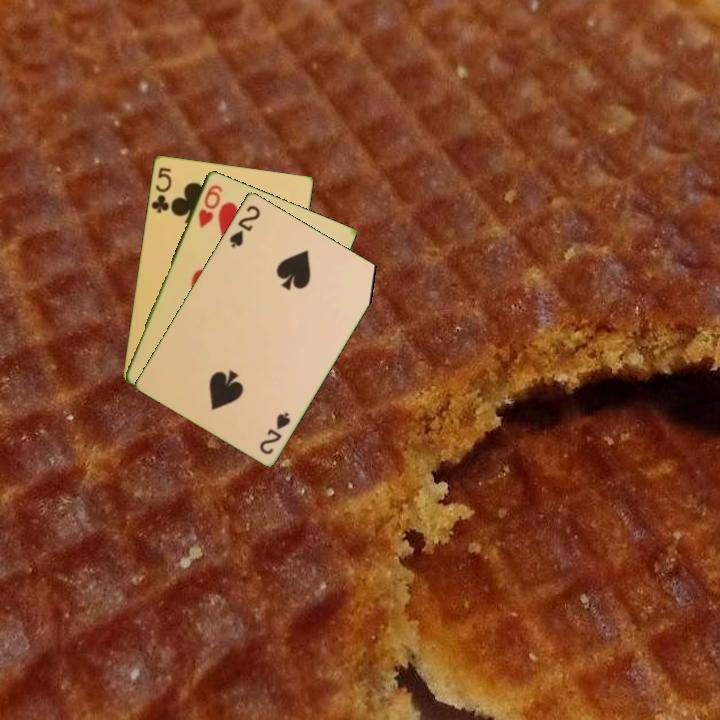2s: (226, 201, 263, 250), (256, 408, 293, 457)
5c: (147, 163, 174, 215)
6h: (194, 181, 226, 231)
